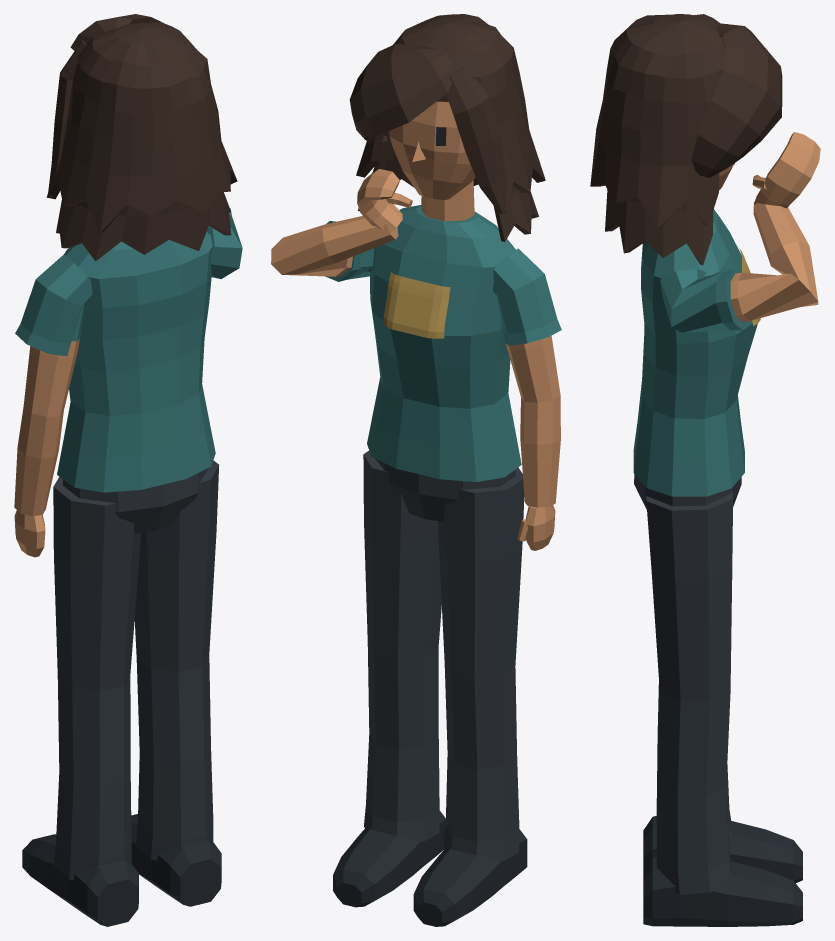
Rendered from lwf_attendee_female_drinking_beer_v2.glb.
3 views of the same model, side by side, from view 1: azimuth 30°, elevation 25°; view 2: azimuth 150°, elevation 25°; view 3: azimuth 270°, elevation 25° (orthographic). The views are drawn at different scales.
Visible parts, largest first — view 1: Attendee_female_drinking_beer_v6; view 2: Attendee_female_drinking_beer_v6; view 3: Attendee_female_drinking_beer_v6.
Boxes of the visible parts, x1=… form: Attendee_female_drinking_beer_v6: x1=14, y1=14, x2=242, y2=926; Attendee_female_drinking_beer_v6: x1=271, y1=14, x2=561, y2=926; Attendee_female_drinking_beer_v6: x1=590, y1=14, x2=820, y2=926.
Bounding box in the file's own units: 0.474 × 1.7 × 0.4032.
Materials: 1 (1 with a texture image).
